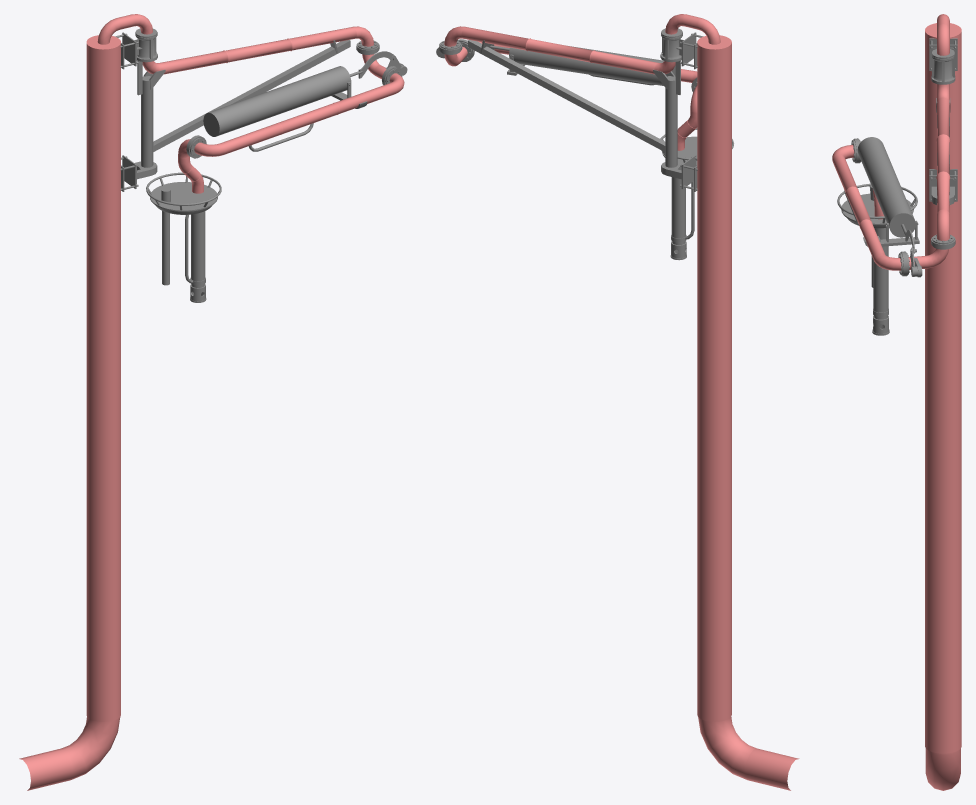
Rendered from SM_Naliv.gltf.
3 views of the same model, side by side, from view 1: azimuth 30°, elevation 25°; view 2: azimuth 150°, elevation 25°; view 3: azimuth 270°, elevation 25° (orthographic). The views are drawn at different scales.
Visible parts, largest first — view 1: SM_Naliv; view 2: SM_Naliv; view 3: SM_Naliv.
Part boxes in pixels (bbox=[...]): SM_Naliv: bbox=[19, 14, 407, 790]; SM_Naliv: bbox=[436, 14, 799, 790]; SM_Naliv: bbox=[832, 14, 961, 790].
Bounding box in the file's own units: 3.4 × 6.55 × 0.9669.
